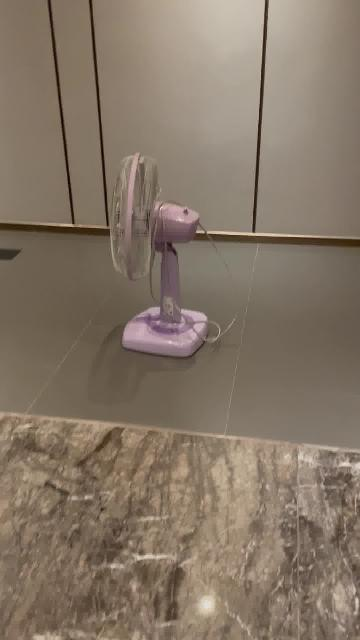Fan: (110, 153, 209, 359)
